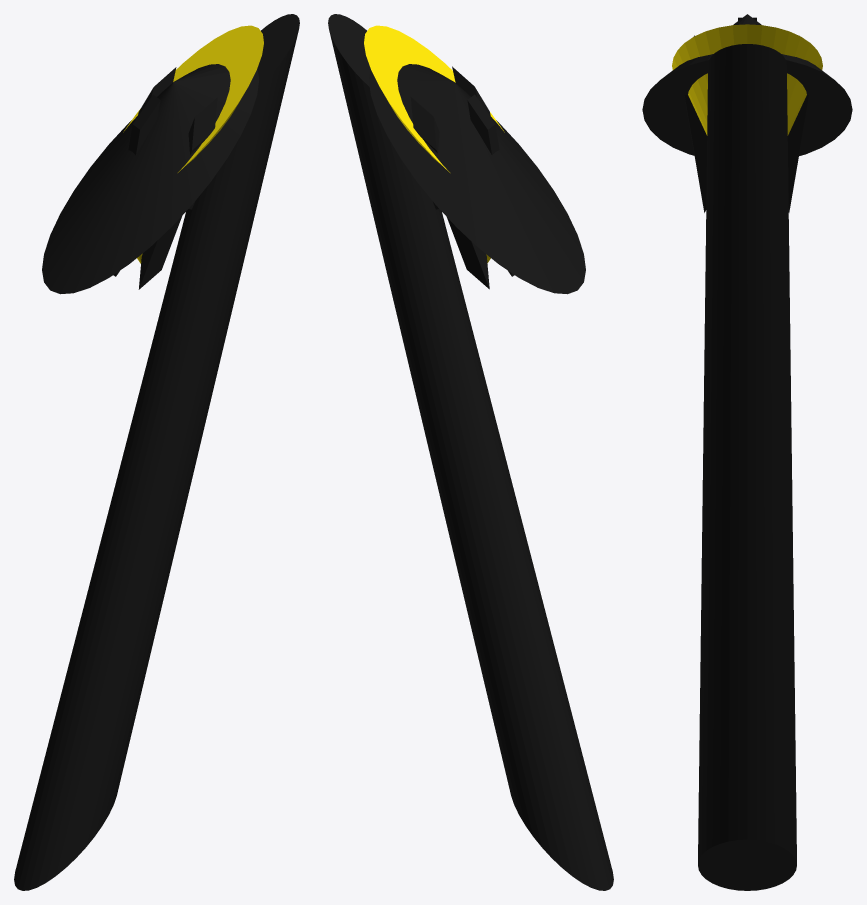
File: StreetLight.fbx
3 views of the same model, side by side, from view 1: azimuth 30°, elevation 25°; view 2: azimuth 150°, elevation 25°; view 3: azimuth 270°, elevation 25° (orthographic). The views are drawn at different scales.
Visible parts, largest first — view 1: Cylinder, Cone.001, Cone, Cube.003, Cube.002; view 2: Cylinder, Cone.001, Cone, Cube.001, Cube.002; view 3: Cylinder, Cone.001, Cone, Cube.003, Cube.001.
Boxes of the visible parts, x1,y1,x2,y2 form: Cylinder: [14, 14, 299, 890]; Cone.001: [42, 64, 259, 294]; Cone: [123, 25, 263, 263]; Cube.003: [138, 97, 217, 289]; Cube.002: [113, 94, 160, 276]; Cylinder: [328, 14, 613, 890]; Cone.001: [368, 64, 585, 294]; Cone: [364, 25, 504, 263]; Cube.001: [410, 97, 489, 289]; Cube.002: [467, 94, 514, 276]; Cylinder: [698, 44, 796, 890]; Cone.001: [642, 14, 852, 155]; Cone: [672, 24, 822, 135]; Cube.003: [684, 35, 707, 212]; Cube.001: [787, 95, 808, 212].
Size of the model in its own units: 252 by 696 by 130.
